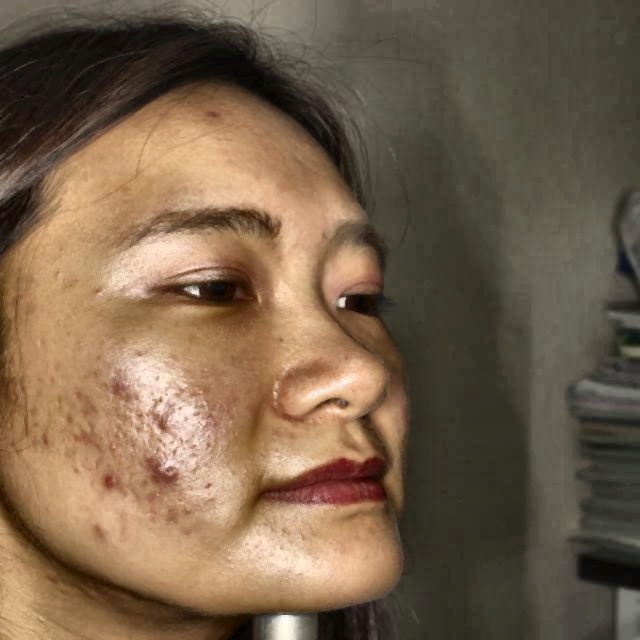pustule: (100, 367, 142, 403), (146, 406, 178, 440), (68, 387, 106, 414), (86, 513, 116, 543), (142, 461, 174, 486), (199, 102, 224, 123), (108, 471, 120, 493)
